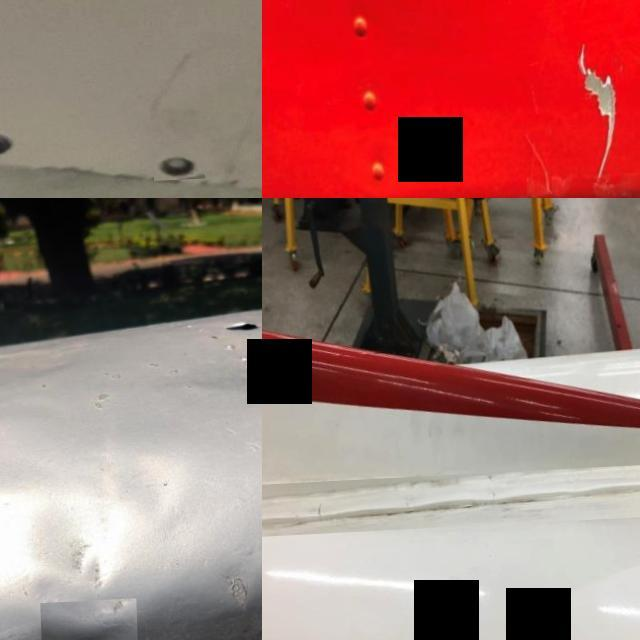Crack: (262, 462, 640, 541)
Dent: (575, 46, 613, 187), (36, 601, 135, 640), (522, 138, 547, 198)
Missing_Fastener: (150, 156, 202, 183), (244, 363, 262, 392)
